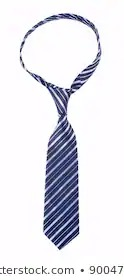F_tie: (10, 7, 112, 255)
